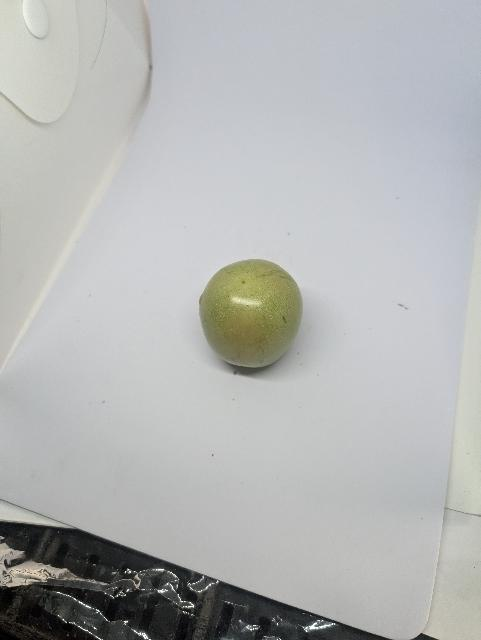green: (197, 257, 306, 370)
